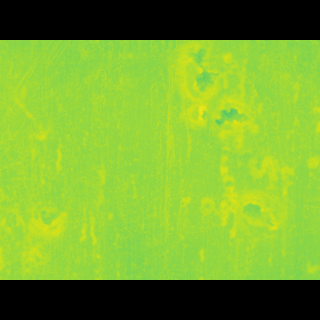Loch: (174, 72, 234, 116), (234, 188, 288, 218), (212, 117, 257, 145), (27, 191, 66, 215), (183, 118, 212, 135), (25, 223, 47, 242)
